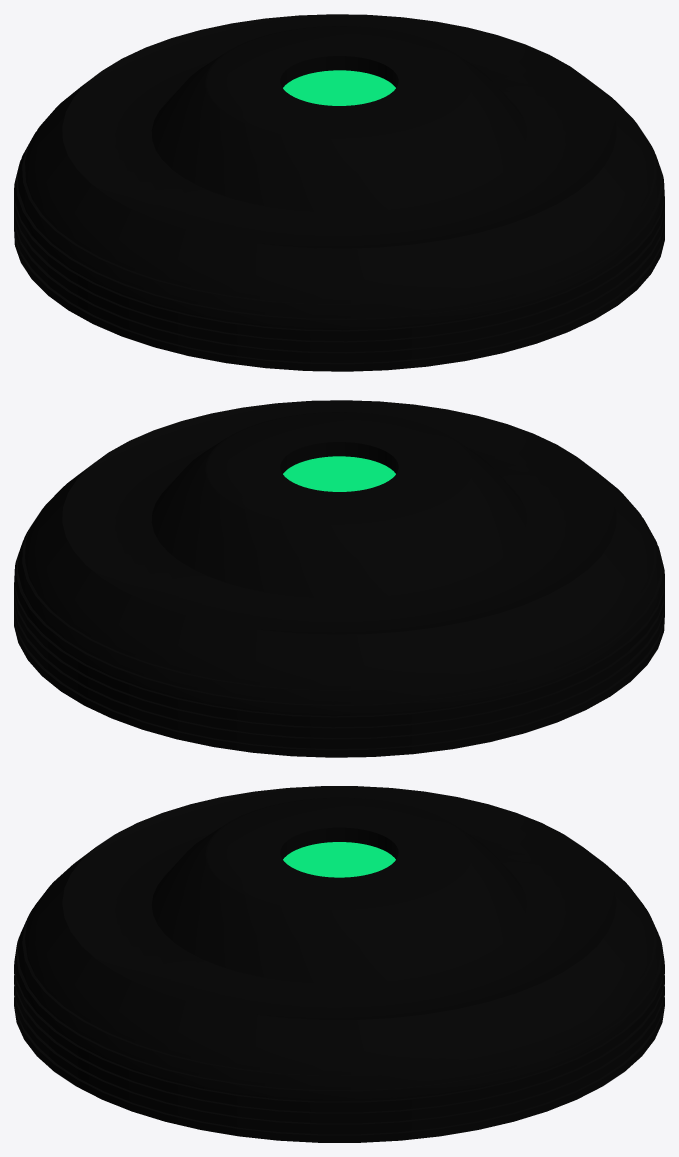
The model's file is Holodisplaystand.fbx.
The picture shows the model from 3 angles, top to bottom: view 1: azimuth 30°, elevation 25°; view 2: azimuth 150°, elevation 25°; view 3: azimuth 270°, elevation 25°; orthographic projection.
Visible parts, largest first — view 1: Cylinder; view 2: Cylinder; view 3: Cylinder.
Boxes of the visible parts, x1,y1,x2,y2 form: Cylinder: (14, 14, 664, 371); Cylinder: (14, 400, 664, 757); Cylinder: (14, 786, 664, 1142).
Size of the model in its own units: 200 by 51.85 by 200.
